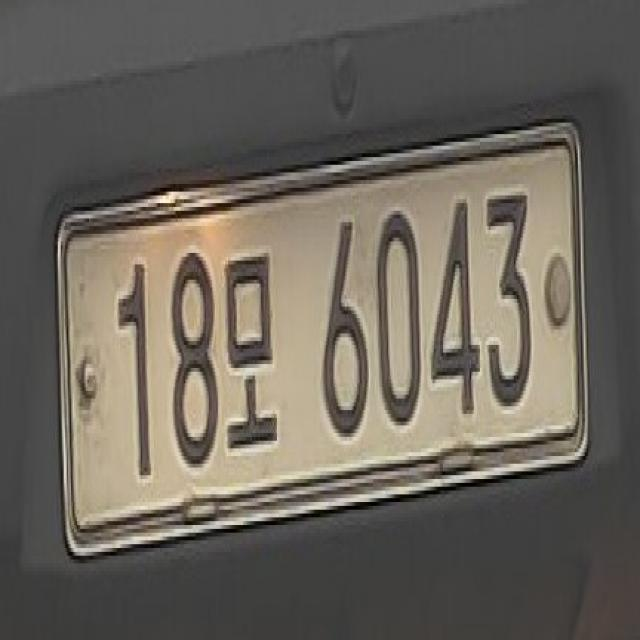0: (374, 195, 426, 441)
1: (112, 237, 164, 506)
3: (484, 176, 538, 418)
4: (429, 180, 482, 418)
6: (318, 203, 374, 460)
8: (166, 226, 222, 479)
license_plate: (50, 100, 594, 574)
mo: (222, 230, 283, 467)
